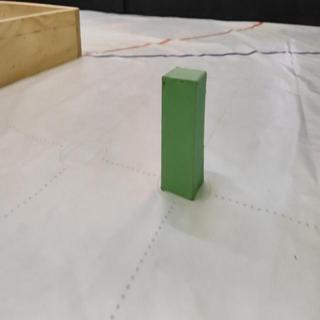greenbox: (161, 66, 207, 201)
